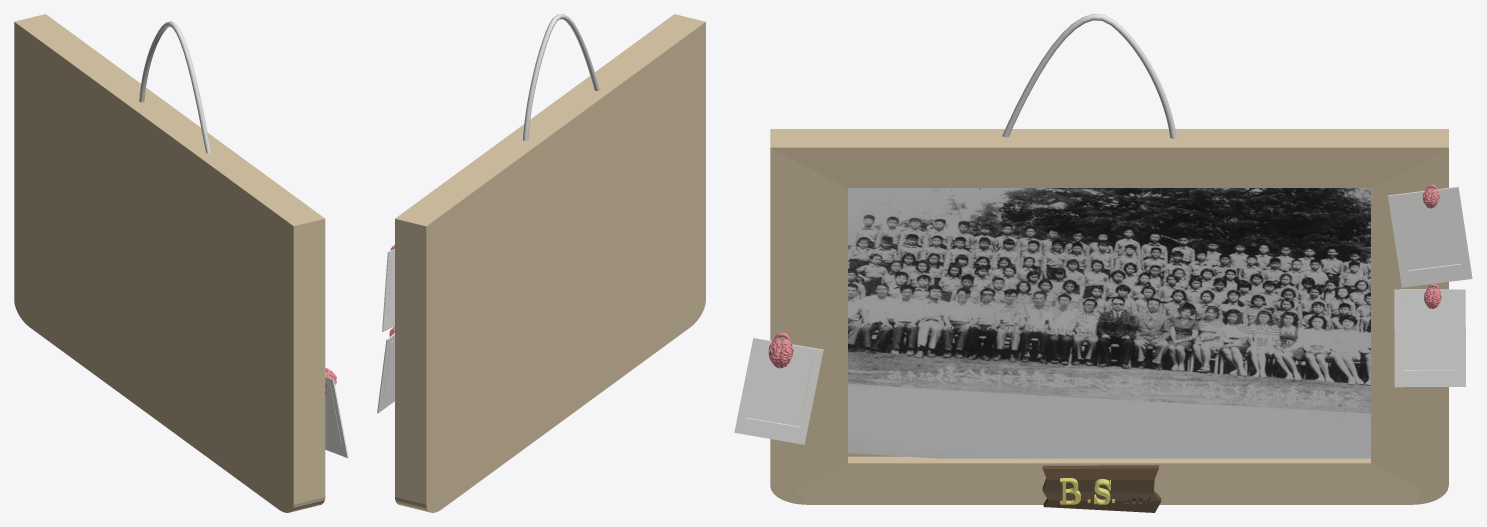
The model's file is oldPicture.glb.
The picture shows the model from 3 angles, left to right: view 1: azimuth 30°, elevation 25°; view 2: azimuth 150°, elevation 25°; view 3: azimuth 270°, elevation 25°; orthographic projection. The views are drawn at different scales.
Parts seen in each view (by area): view 1: cube.008; view 2: cube.008; view 3: cube.008.
Boxes of the visible parts, <box> form: cube.008: <box>14,14,348,512</box>; cube.008: <box>377,14,705,512</box>; cube.008: <box>734,14,1472,512</box>.
Bounding box in the file's own units: 0.0596 × 0.4934 × 0.681.
Materials: 6 (1 with a texture image).
